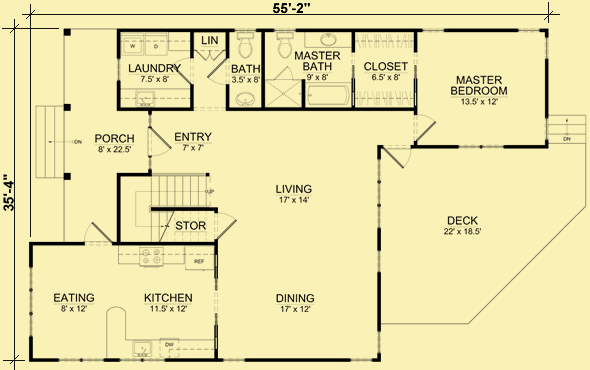door: (79, 219, 115, 250), (143, 124, 173, 159), (411, 110, 438, 146), (213, 206, 239, 243), (381, 142, 415, 170), (171, 56, 199, 86), (207, 56, 231, 88), (271, 63, 296, 81)
large sink: (270, 29, 297, 60), (234, 28, 258, 60)
small sink: (305, 29, 352, 49), (228, 88, 261, 107)
stairs: (119, 172, 218, 248), (33, 103, 77, 182), (542, 112, 588, 149)
tub: (301, 80, 354, 109)
windows: (26, 262, 37, 338), (454, 141, 508, 153), (376, 156, 384, 231), (53, 356, 105, 365), (513, 22, 541, 36), (374, 247, 386, 274), (421, 26, 449, 37)
